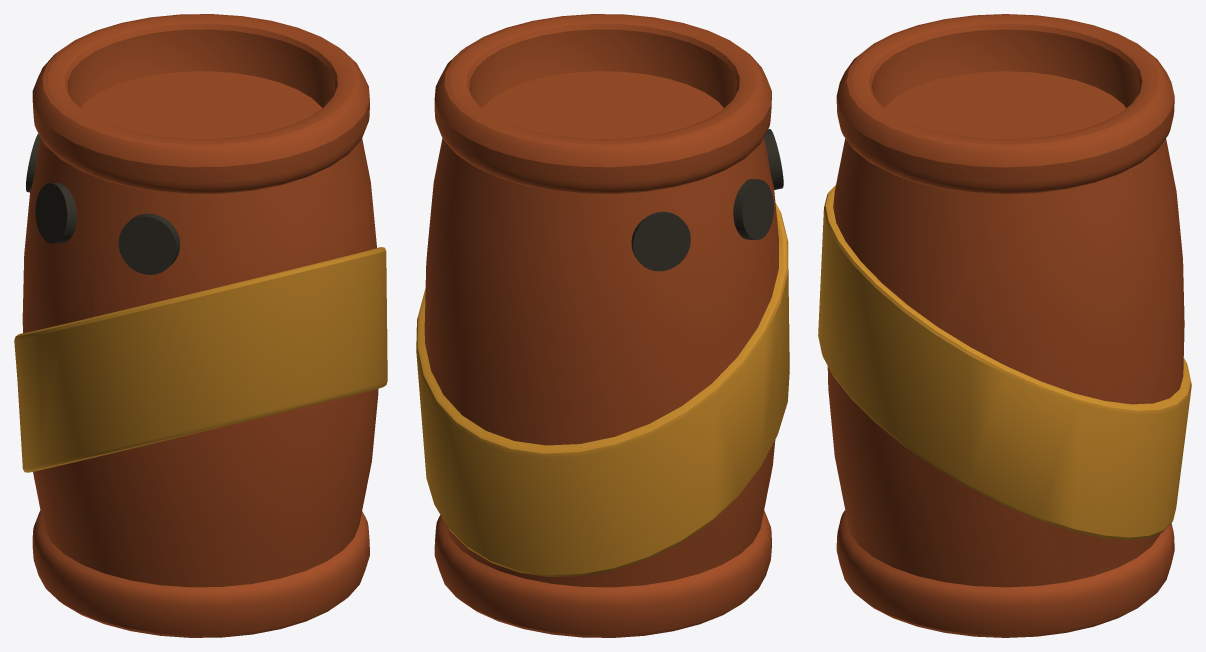
Rendered from pot_1.fbx.
The picture shows the model from 3 angles, left to right: view 1: azimuth 30°, elevation 25°; view 2: azimuth 150°, elevation 25°; view 3: azimuth 270°, elevation 25°; orthographic projection.
Parts seen in each view (by area): view 1: pot_1; view 2: pot_1; view 3: pot_1.
Boxes of the visible parts, <box> form: pot_1: <box>14,14,387,637</box>; pot_1: <box>416,14,789,637</box>; pot_1: <box>818,14,1191,637</box>.
Size of the model in its own units: 61.39 by 89.12 by 61.29.
